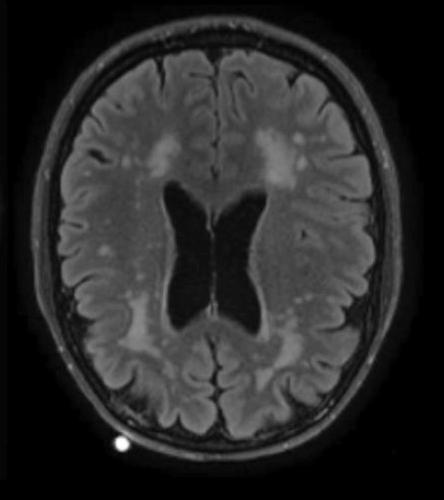Normal_Brain: (1, 1, 444, 500)
